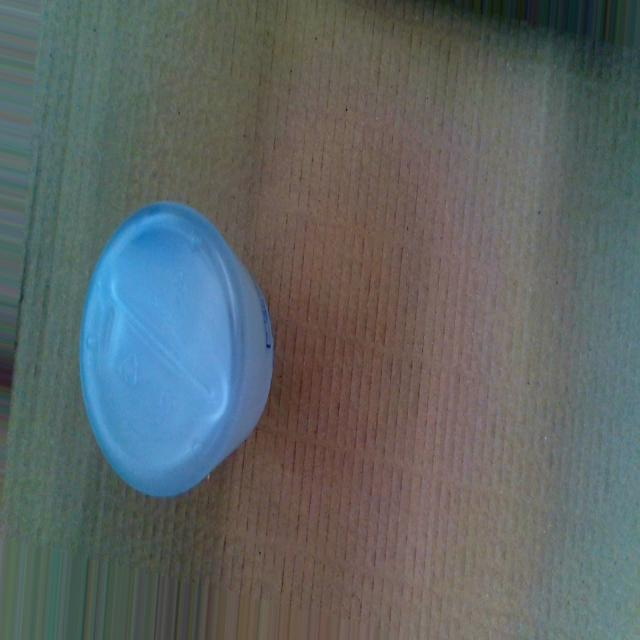bottle: (80, 196, 274, 500)
